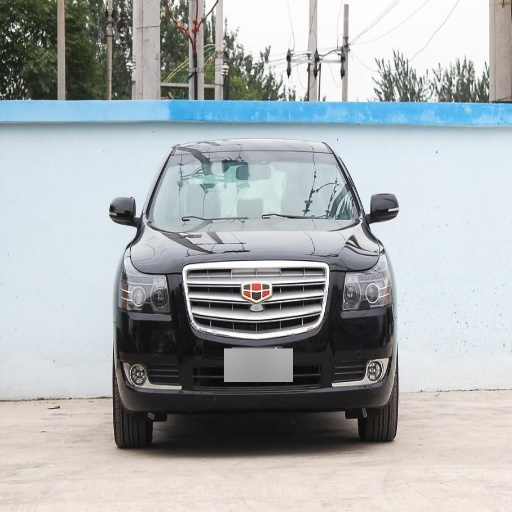front_bumper: (115, 269, 391, 411)
front_right_light: (120, 261, 170, 315)
hood: (133, 218, 377, 342)
